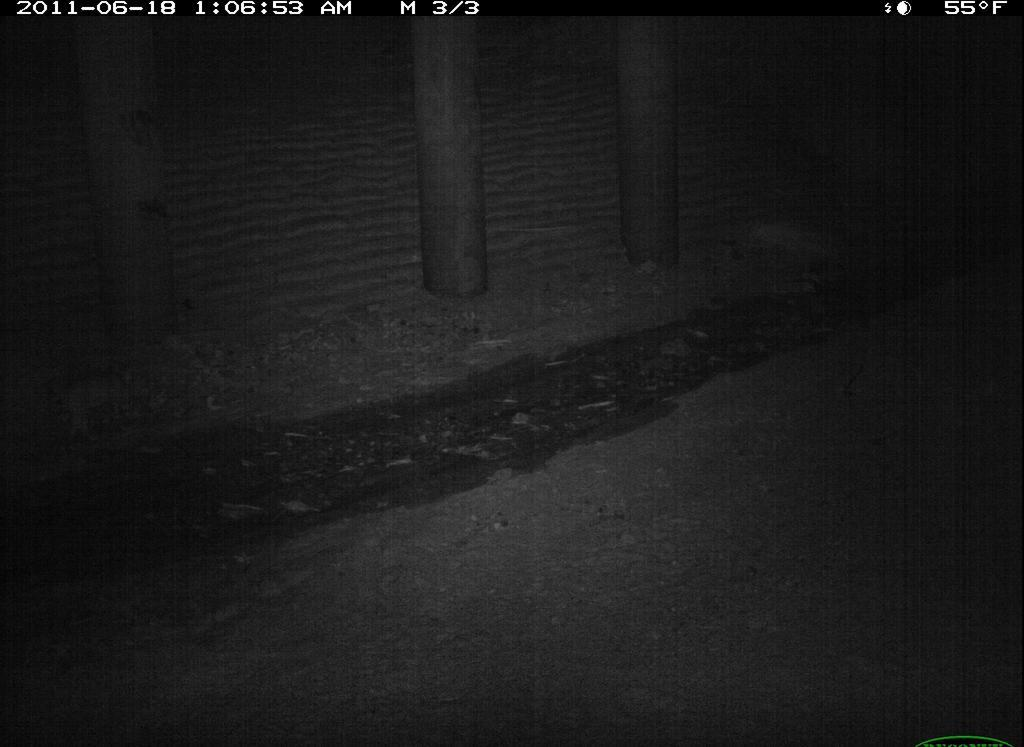bobcat: (99, 717, 289, 747)
